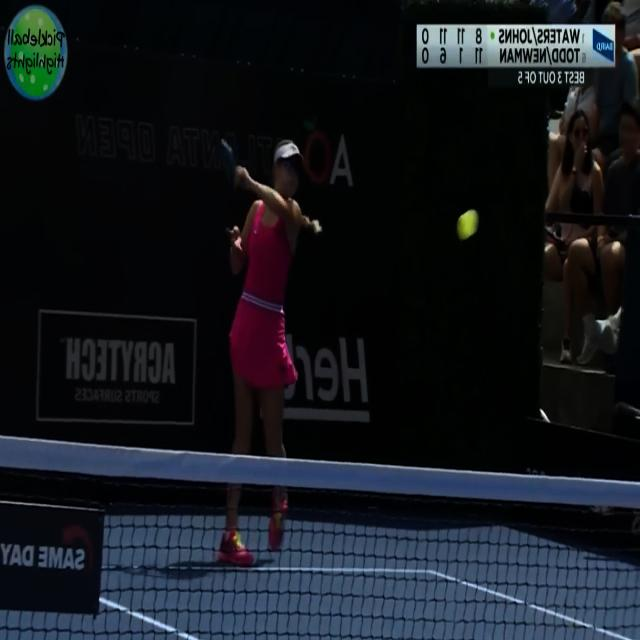Pickleball: (455, 207, 479, 244)
